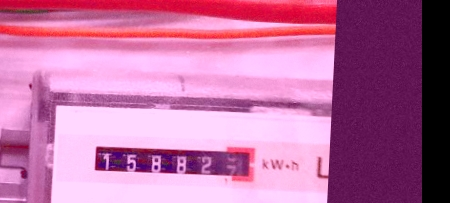1: (101, 150, 110, 169)
2: (200, 153, 212, 174)
5: (123, 151, 137, 171)
7: (224, 161, 236, 174)
8: (173, 152, 188, 173), (150, 152, 162, 172)
screen: (88, 137, 259, 185)
